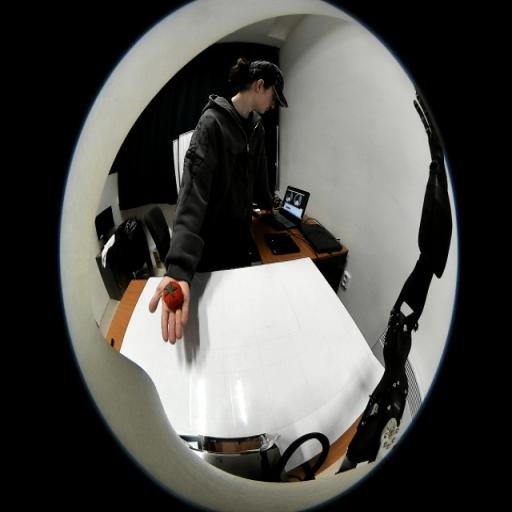Tomato: (163, 281, 183, 310)
